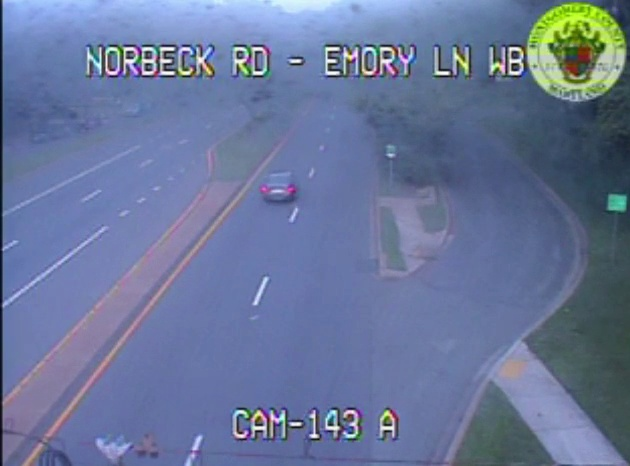car: (263, 173, 294, 201)
